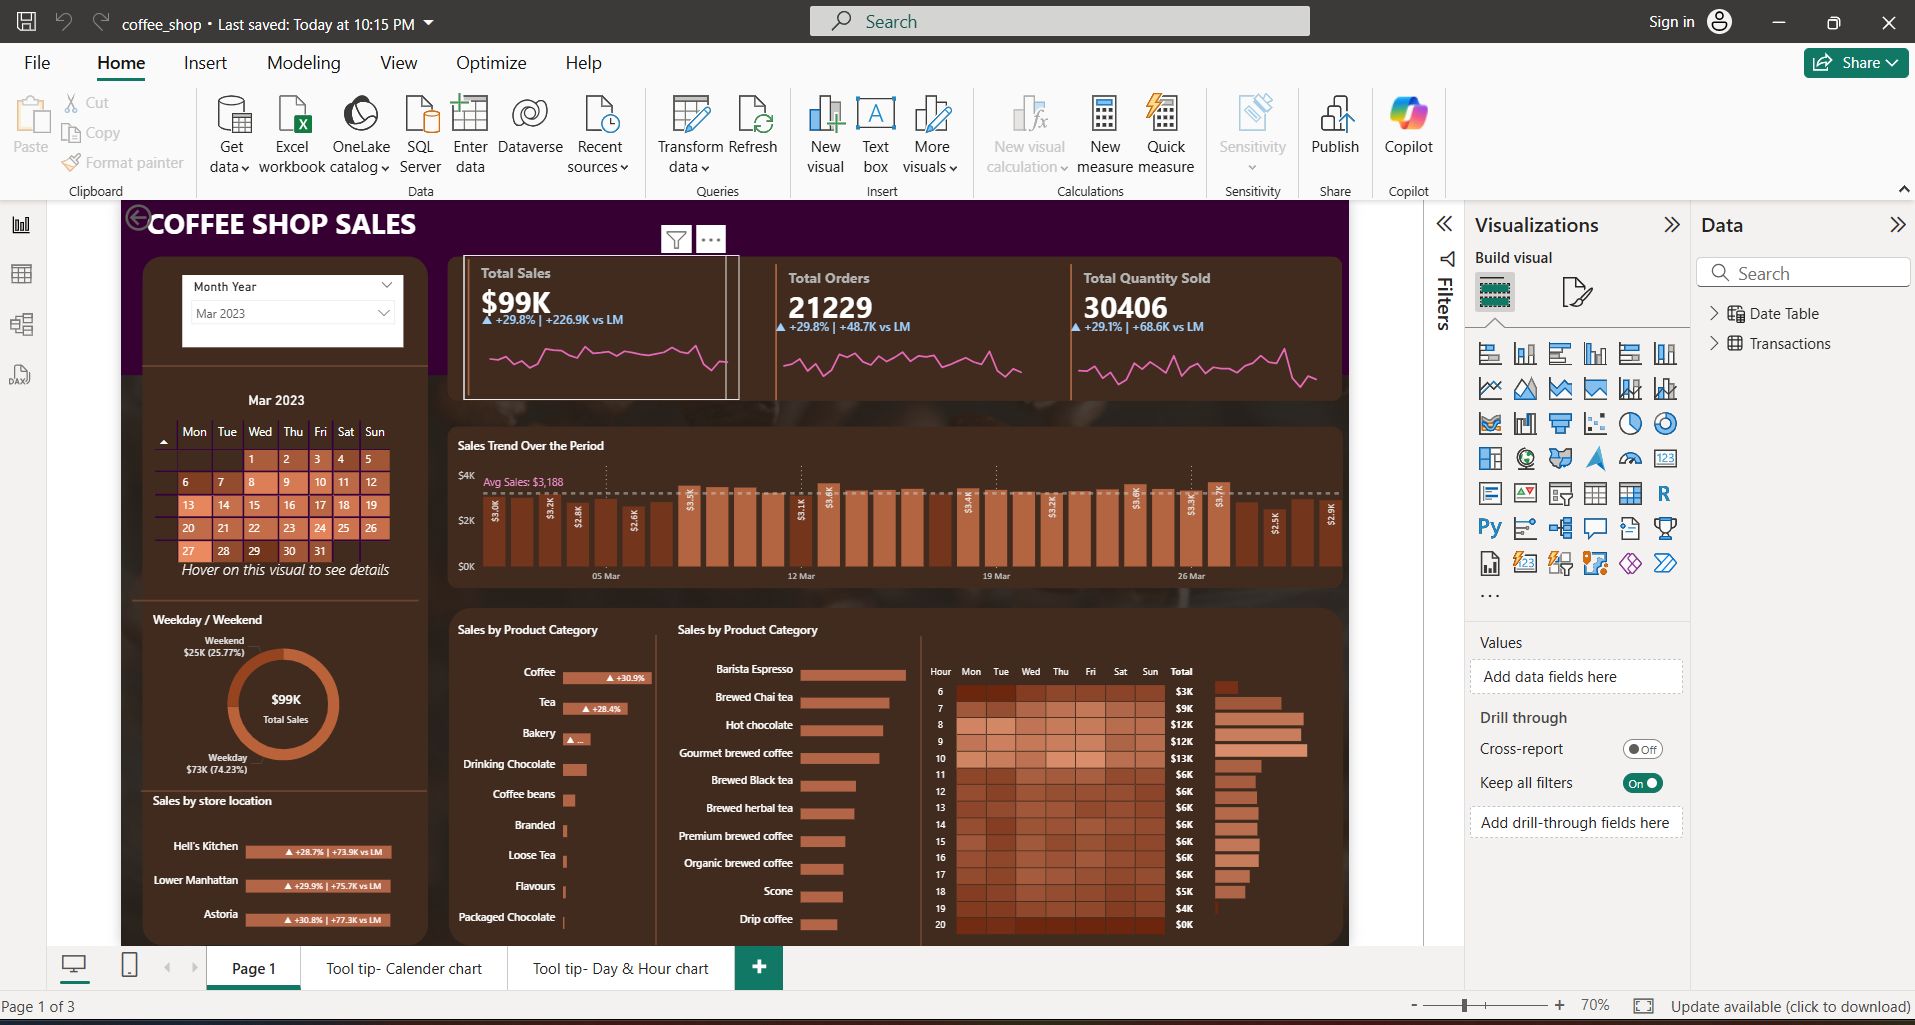

This screenshot's page, from the dashboard's own definition file:
{"tool":"powerbi","page":{"name":"Page 1","canvas":[1400,850],"ordinal":0},"visuals":[{"type":"shape","box":[373.2,464.3,1019.8,386],"z":0},{"type":"shape","box":[0,0,1400,199.6],"z":1000},{"type":"shape","box":[24,64.5,325.7,785],"z":2000},{"type":"shape","box":[372.2,64.5,1020,165.1],"z":3000},{"type":"textbox","box":[24,0,366.2,63],"z":4000},{"type":"cardVisual","fields":{"Data":["Transactions.Total Sales"]},"box":[390.2,63,300.2,165.1],"z":4000,"group":"g1"},{"type":"cardVisual","fields":{"Data":["Transactions.Total Orders"]},"box":[741.1,68.1,300.2,165.1],"z":4000,"group":"g2"},{"type":"cardVisual","fields":{"Data":["Transactions.Total Quantity Sold"]},"box":[1077,68.1,300.2,165.1],"z":4000,"group":"g3"},{"type":"slicer","fields":{"Values":["Date Table.Month Year"]},"box":[69.8,85.5,252.1,82.6],"z":5000},{"type":"group","id":"g1","title":"Group 1","box":[390.2,63,315.2,165.1],"z":6000},{"type":"lineChart","fields":{"Category":["Date Table.Date.Variation.Date Hierarchy.Year","Date Table.Date.Variation.Date Hierarchy.Quarter","Date Table.Date.Variation.Date Hierarchy.Month","Date Table.Date.Variation.Date Hierarchy.Day"],"Y":["Transactions.Total Sales"]},"box":[405.8,126.9,300.2,85.5],"z":6000,"group":"g1"},{"type":"lineChart","fields":{"Category":["Date Table.Date.Variation.Date Hierarchy.Year","Date Table.Date.Variation.Date Hierarchy.Quarter","Date Table.Date.Variation.Date Hierarchy.Month","Date Table.Date.Variation.Date Hierarchy.Day"],"Y":["Transactions.Total Orders"]},"box":[741.1,135.6,300.2,85.5],"z":6000,"group":"g2"},{"type":"lineChart","fields":{"Category":["Date Table.Date.Variation.Date Hierarchy.Year","Date Table.Date.Variation.Date Hierarchy.Quarter","Date Table.Date.Variation.Date Hierarchy.Month","Date Table.Date.Variation.Date Hierarchy.Day"],"Y":["Transactions.Total Quantity Sold"]},"box":[1077,135.6,300.2,85.5],"z":6000,"group":"g3"},{"type":"group","id":"g2","title":"Group 1","box":[741.1,68.1,300.2,165.1],"z":7000},{"type":"group","id":"g3","title":"Group 1","box":[1077,68.1,300.2,165.1],"z":8000},{"type":"pivotTable","fields":{"Rows":["Date Table.Week Number"],"Columns":["Date Table.Day Name"],"Values":["Min(Date Table.Day Number)"]},"box":[34.5,246.1,304.7,190.6],"z":9000},{"type":"card","fields":{"Values":["Min(Date Table.Month Year)"]},"box":[133.6,211.6,87.1,34.5],"z":10000},{"type":"card","fields":{"Values":["Transactions.Foot Note"]},"box":[54,408.2,267.2,28.5],"z":11000},{"type":"actionButton","box":[0,0,100,40],"z":12000},{"type":"shape","box":[12.8,447.2,326.2,18.5],"z":13000},{"type":"shape","box":[24,180.1,325.7,19.5],"z":14000},{"type":"donutChart","title":"Weekday / Weekend","fields":{"Category":["Date Table.Weekday / Weekend"],"Y":["Transactions.Total Sales"]},"box":[31.5,468.3,307.7,195.1],"z":15000},{"type":"card","fields":{"Values":["Transactions.Total Sales"]},"box":[130.6,544.8,114.1,64.5],"z":16000},{"type":"shape","box":[22.5,663.4,325.7,19.5],"z":17000},{"type":"clusteredBarChart","title":"Sales by Product Category","fields":{"Y":["Transactions.Placeholder","Transactions.Total Sales"],"Category":["Transactions.product_category"]},"box":[378.9,480,252.1,370.3],"z":18000},{"type":"clusteredBarChart","title":"Sales by store location","fields":{"Category":["Transactions.store_location"],"Y":["Transactions.Placeholder","Transactions.Total Sales"]},"box":[31.3,675.1,307.6,175.2],"z":19000},{"type":"shape","box":[372.2,258.1,1020.6,185],"z":20000},{"type":"columnChart","title":"Sales Trend Over the Period","fields":{"Category":["Transactions.transaction_date"],"Y":["Transactions.Total Sales"]},"box":[378.9,270.6,1021.2,175.2],"z":21000},{"type":"shape","box":[598.2,495.6,22.8,353.2],"z":21001},{"type":"clusteredBarChart","title":"Sales by Product Category","fields":{"Y":["Transactions.Placeholder","Transactions.Total Sales"],"Category":["Transactions.product_type"]},"box":[629.5,480,293.4,370.3],"z":21002},{"type":"shape","box":[900.1,497.1,22.8,353.2],"z":21003},{"type":"pivotTable","fields":{"Rows":["Transactions.Hour"],"Columns":["Date Table.Day Name"],"Values":["Transactions.Total Sales"]},"box":[911.5,525.6,370.3,323.3],"z":21004},{"type":"barChart","fields":{"Category":["Transactions.Hour"],"Y":["Transactions.Total Sales"]},"box":[1242,535.5,135.3,283.4],"z":21005}]}

Visuals, with their boxes on the page's 1400x850 design canvas (x1, y1, x2, y2). These are canvas units, not pixel positions in the 1915x1025 screenshot, which may show the page scaled, cropped or inside an application window:
shape: crop(373, 464, 1393, 850)
shape: crop(0, 0, 1400, 200)
shape: crop(24, 64, 350, 850)
shape: crop(372, 64, 1392, 230)
textbox: crop(24, 0, 390, 63)
cardVisual - Transactions.Total Sales: crop(390, 63, 690, 228)
cardVisual - Transactions.Total Orders: crop(741, 68, 1041, 233)
cardVisual - Transactions.Total Quantity Sold: crop(1077, 68, 1377, 233)
slicer - Date Table.Month Year: crop(70, 86, 322, 168)
"Group 1" group: crop(390, 63, 705, 228)
lineChart - Date Table.Date.Variation.Date Hierarchy.Year x Date Table.Date.Variation.Date Hierarchy.Quarter: crop(406, 127, 706, 212)
lineChart - Date Table.Date.Variation.Date Hierarchy.Year x Date Table.Date.Variation.Date Hierarchy.Quarter: crop(741, 136, 1041, 221)
lineChart - Date Table.Date.Variation.Date Hierarchy.Year x Date Table.Date.Variation.Date Hierarchy.Quarter: crop(1077, 136, 1377, 221)
"Group 1" group: crop(741, 68, 1041, 233)
"Group 1" group: crop(1077, 68, 1377, 233)
pivotTable - Date Table.Week Number x Date Table.Day Name: crop(34, 246, 339, 437)
card - Min(Date Table.Month Year): crop(134, 212, 221, 246)
card - Transactions.Foot Note: crop(54, 408, 321, 437)
actionButton: crop(0, 0, 100, 40)
shape: crop(13, 447, 339, 466)
shape: crop(24, 180, 350, 200)
"Weekday / Weekend" donutChart: crop(32, 468, 339, 663)
card - Transactions.Total Sales: crop(131, 545, 245, 609)
shape: crop(22, 663, 348, 683)
"Sales by Product Category" clusteredBarChart: crop(379, 480, 631, 850)
"Sales by store location" clusteredBarChart: crop(31, 675, 339, 850)
shape: crop(372, 258, 1393, 443)
"Sales Trend Over the Period" columnChart: crop(379, 271, 1400, 446)
shape: crop(598, 496, 621, 849)
"Sales by Product Category" clusteredBarChart: crop(630, 480, 923, 850)
shape: crop(900, 497, 923, 850)
pivotTable - Transactions.Hour x Date Table.Day Name: crop(912, 526, 1282, 849)
barChart - Transactions.Hour x Transactions.Total Sales: crop(1242, 536, 1377, 819)
